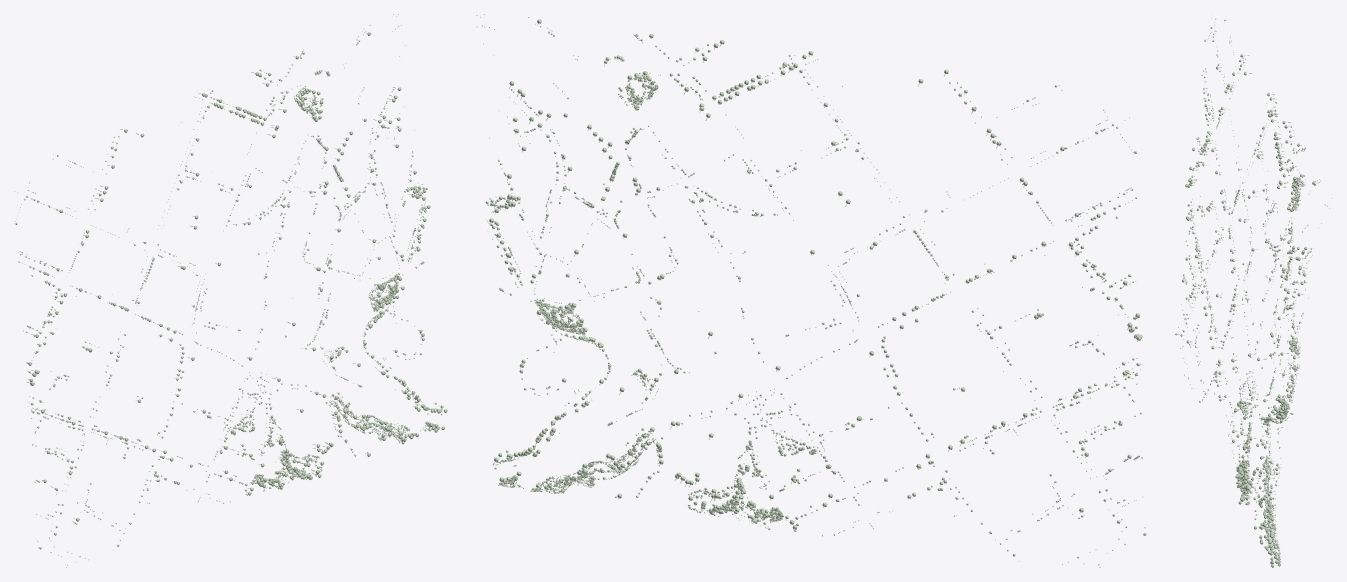
File: trees.glb
3 renders of one model, left to right at view 1: azimuth 30°, elevation 25°; view 2: azimuth 150°, elevation 25°; view 3: azimuth 270°, elevation 25°, orthographic. The views are drawn at different scales.
Visible parts, largest first — view 1: trees; view 2: trees; view 3: trees.
Boxes of the visible parts, x1,y1,x2,y2 form: trees: (14, 14, 447, 567); trees: (476, 14, 1146, 567); trees: (1175, 14, 1332, 567).
Size of the model in its own units: 1224 by 995 by 386.
